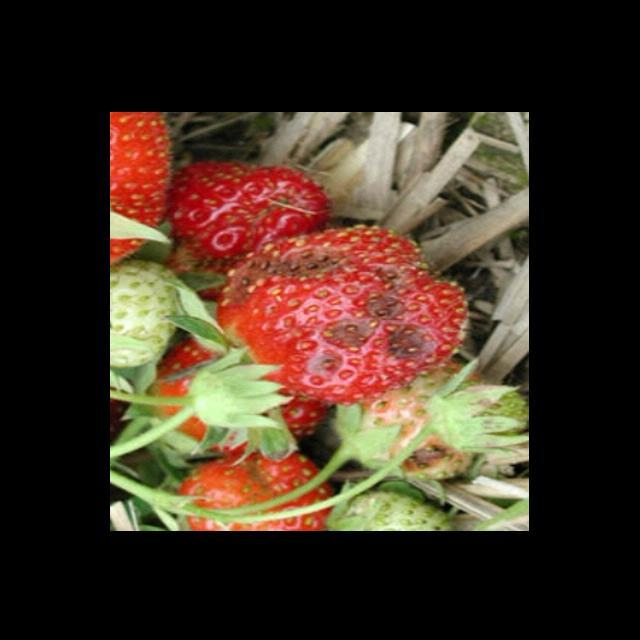Anthracnose Fruit Rot: (222, 239, 434, 378), (364, 360, 477, 479)
